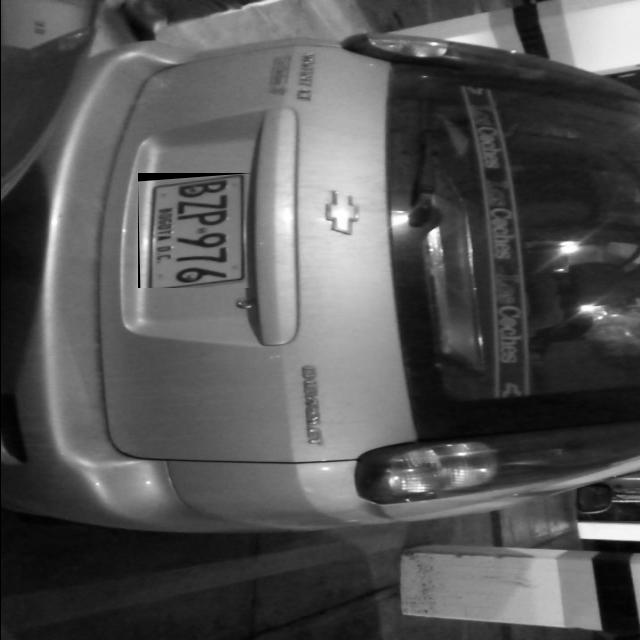plate: (137, 173, 252, 288)
